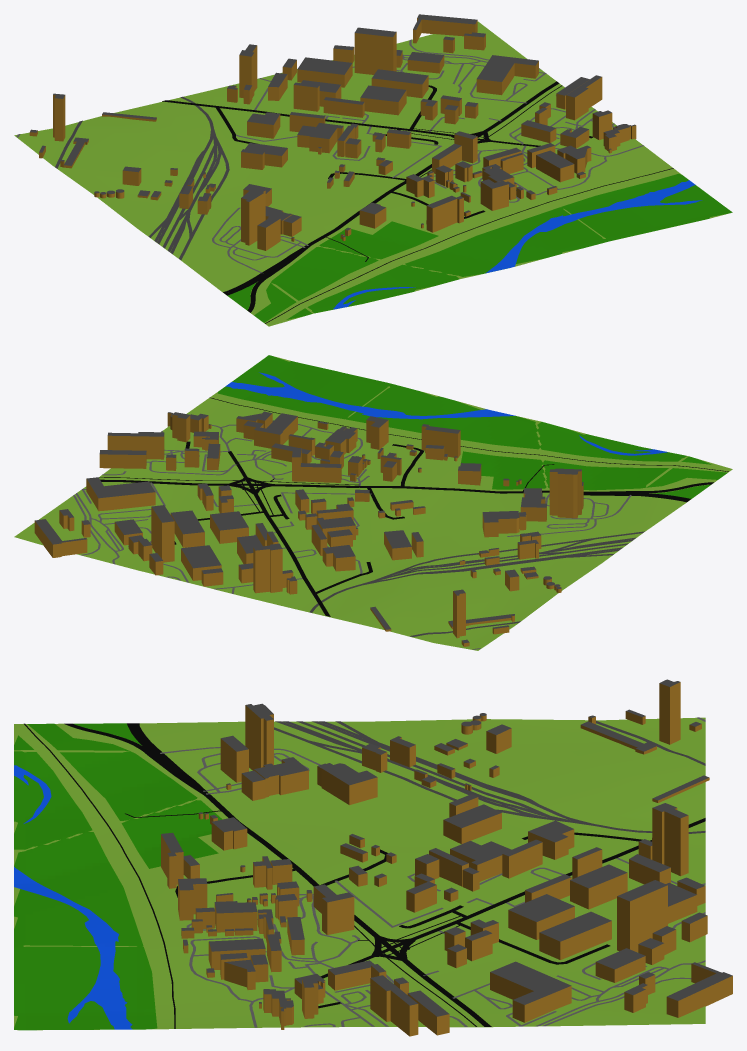
The model's file is tile_02_01.glb.
3 views of the same model, one above another, from view 1: azimuth 30°, elevation 25°; view 2: azimuth 150°, elevation 25°; view 3: azimuth 270°, elevation 25° (orthographic). The views are drawn at different scales.
Parts seen in each view (by area): view 1: Terrain_02_01, Ub_small.osm_buildings_02_01, Ub_small.osm_vegetation_02_01, Ub_small.osm_roads_service_02_01, Ub_small.osm_railways_02_01, Ub_small.osm_water_02_01, Ub_small.osm_roads_trunk_02_01, Ub_small.osm_paths_footway_02_01, Ub_small.osm_roads_residential_02_01, Ub_small.osm_roads_secondary_02_01; view 2: Terrain_02_01, Ub_small.osm_buildings_02_01, Ub_small.osm_vegetation_02_01, Ub_small.osm_roads_service_02_01, Ub_small.osm_railways_02_01, Ub_small.osm_water_02_01, Ub_small.osm_roads_trunk_02_01, Ub_small.osm_paths_footway_02_01, Ub_small.osm_roads_residential_02_01, Ub_small.osm_roads_secondary_02_01; view 3: Terrain_02_01, Ub_small.osm_buildings_02_01, Ub_small.osm_vegetation_02_01, Ub_small.osm_roads_service_02_01, Ub_small.osm_railways_02_01, Ub_small.osm_water_02_01, Ub_small.osm_roads_trunk_02_01, Ub_small.osm_roads_residential_02_01, Ub_small.osm_paths_footway_02_01, Ub_small.osm_roads_secondary_02_01.
Boxes of the visible parts, x1,y1,x2,y2 form: Terrain_02_01: (14,21,727,326); Ub_small.osm_buildings_02_01: (29,14,636,250); Ub_small.osm_vegetation_02_01: (227,173,732,322); Ub_small.osm_roads_service_02_01: (16,39,643,273); Ub_small.osm_railways_02_01: (55,96,229,260); Ub_small.osm_water_02_01: (333,180,702,309); Ub_small.osm_roads_trunk_02_01: (223,81,559,312); Ub_small.osm_paths_footway_02_01: (265,85,673,323); Ub_small.osm_roads_residential_02_01: (216,85,593,218); Ub_small.osm_roads_secondary_02_01: (162,100,454,136); Terrain_02_01: (14,356,732,650); Ub_small.osm_buildings_02_01: (34,411,583,646); Ub_small.osm_vegetation_02_01: (217,355,727,498); Ub_small.osm_roads_service_02_01: (73,424,631,649); Ub_small.osm_railways_02_01: (309,531,644,636); Ub_small.osm_water_02_01: (225,372,667,455); Ub_small.osm_roads_trunk_02_01: (100,477,713,502); Ub_small.osm_paths_footway_02_01: (99,397,728,515); Ub_small.osm_roads_residential_02_01: (174,441,424,593); Ub_small.osm_roads_secondary_02_01: (248,484,330,616); Terrain_02_01: (14,717,705,1030); Ub_small.osm_buildings_02_01: (161,679,732,1036); Ub_small.osm_vegetation_02_01: (14,723,222,1030); Ub_small.osm_roads_service_02_01: (160,717,705,1027); Ub_small.osm_railways_02_01: (274,720,705,833); Ub_small.osm_water_02_01: (14,765,132,1029); Ub_small.osm_roads_trunk_02_01: (64,723,491,1026); Ub_small.osm_roads_residential_02_01: (175,832,642,1008); Ub_small.osm_paths_footway_02_01: (24,723,476,1028); Ub_small.osm_roads_secondary_02_01: (389,818,705,948).
Size of the model in its own units: 1016 by 94.29 by 967.
